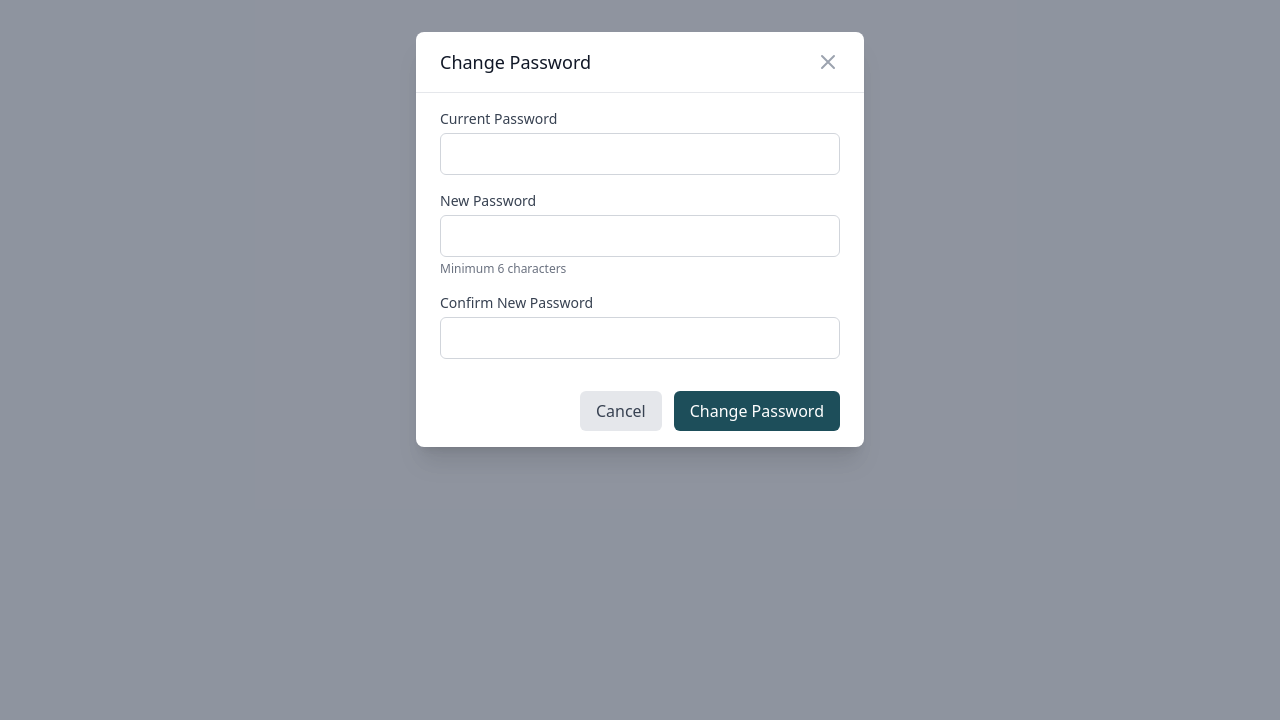
Scenario: ChangePasswordModal › shows error when passwords do not match
The width and height of the screenshot is (1280, 720).
Type "currentpass" into the password field labelled "Current Password" at x=640, y=154, box [440,133,840,175]
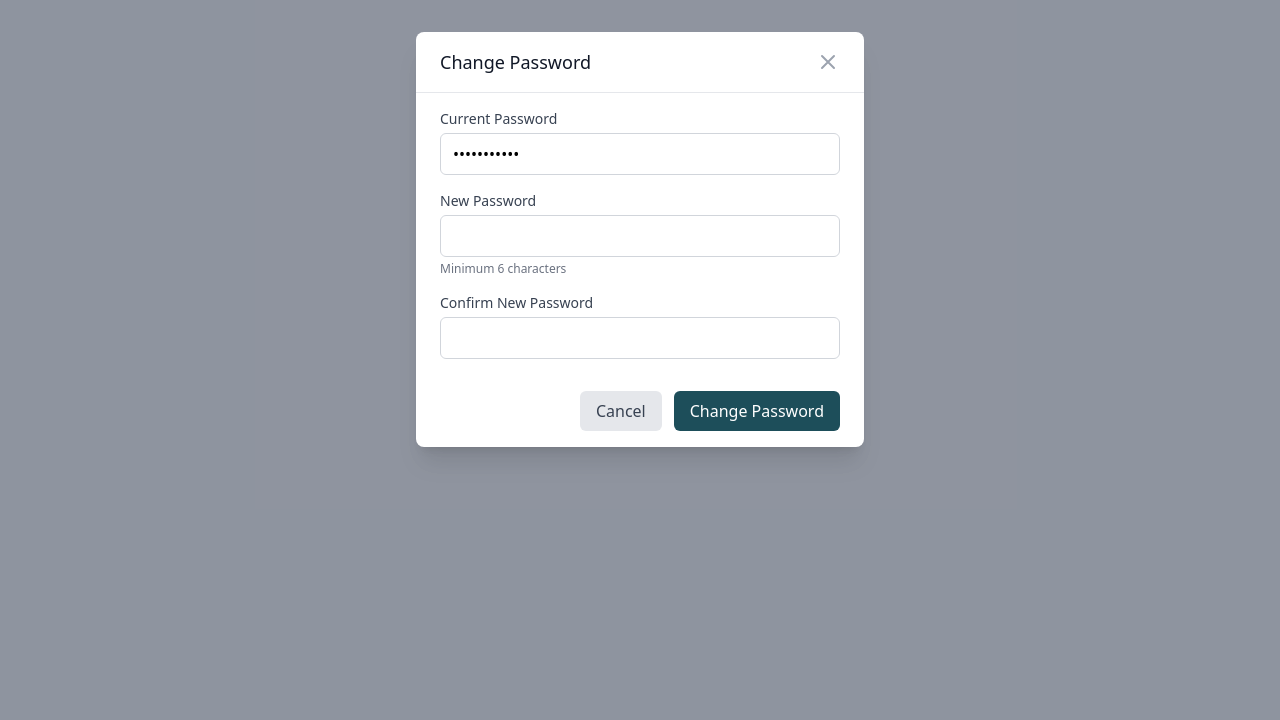
Type "newpass123" into the password field labelled "New Password" at x=640, y=236, box [440,215,840,257]
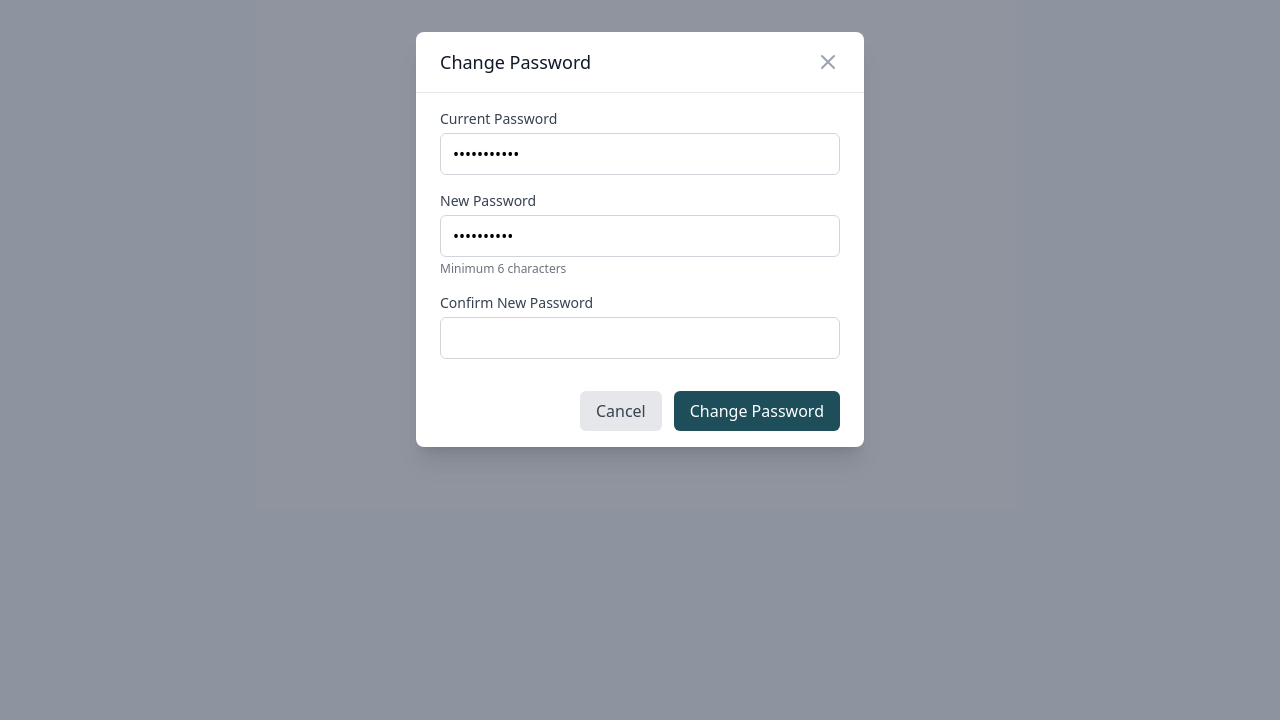
Type "different" into the password field labelled "Confirm New Password" at x=640, y=338, box [440,317,840,359]
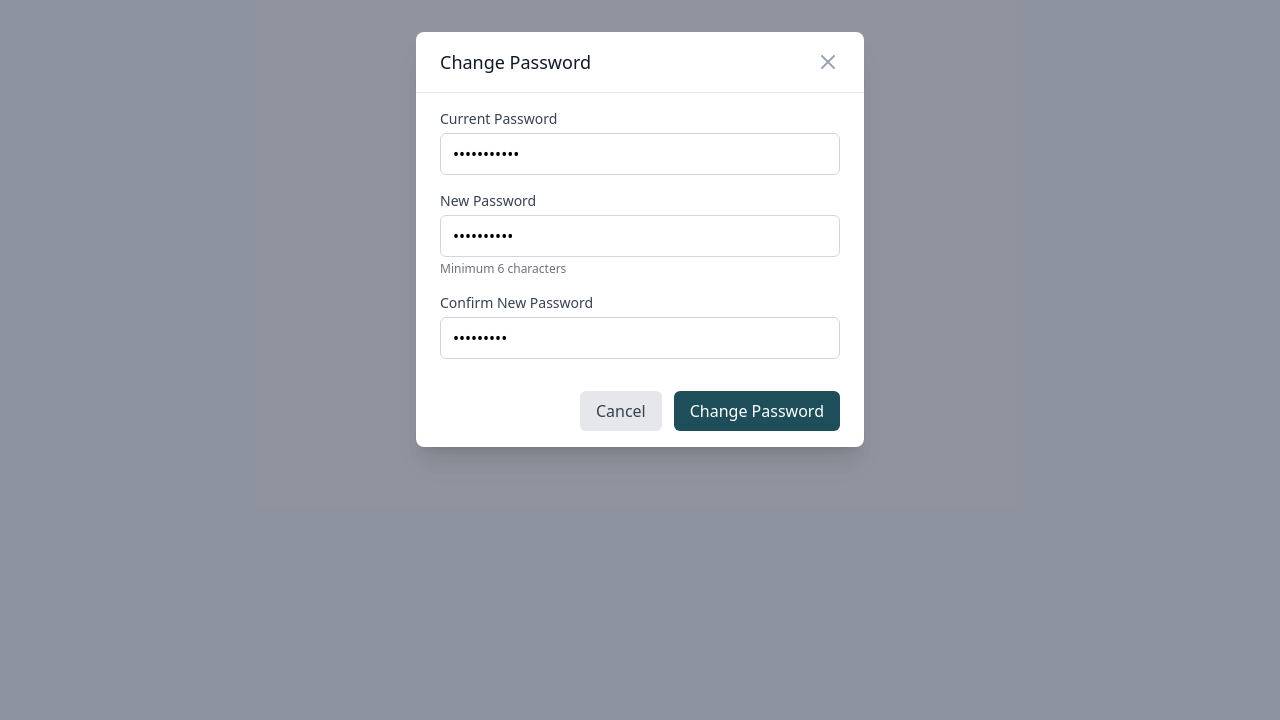
Click the button "Change Password" at x=757, y=411, box [674,391,840,431]
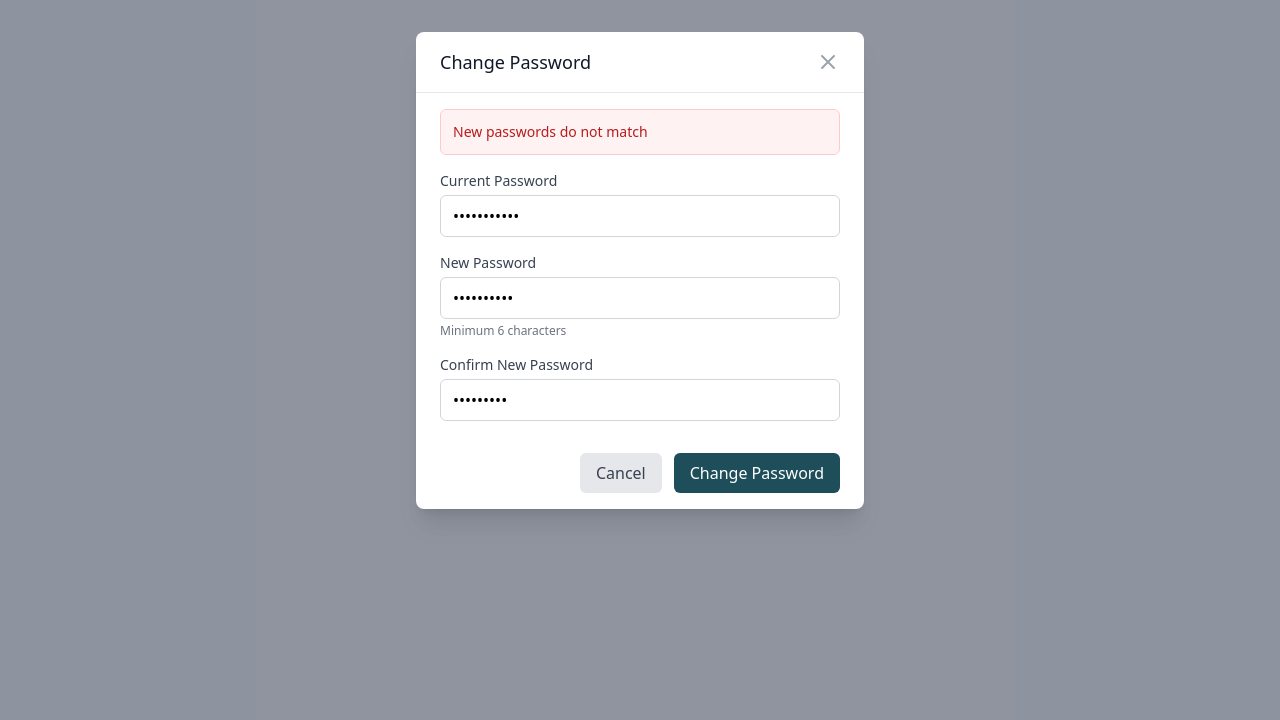
Check: the text "New passwords do not match" is shown, box [440,109,840,155]
